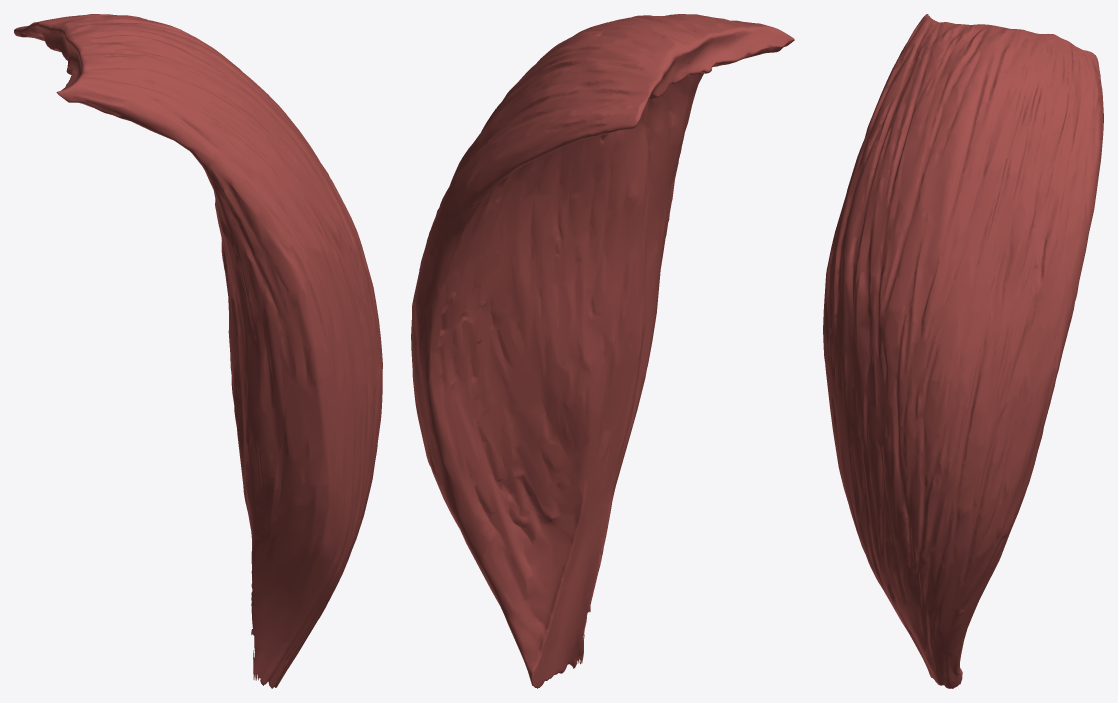
The model's file is FMA34683.glb.
3 views of the same model, side by side, from view 1: azimuth 30°, elevation 25°; view 2: azimuth 150°, elevation 25°; view 3: azimuth 270°, elevation 25° (orthographic). The views are drawn at different scales.
Visible parts, largest first — view 1: FMA34683; view 2: FMA34683; view 3: FMA34683.
Boxes of the visible parts, bbox=[...] form: FMA34683: bbox=[14, 14, 382, 688]; FMA34683: bbox=[411, 14, 794, 688]; FMA34683: bbox=[823, 14, 1103, 688].
Bounding box in the file's own units: 0.0728 × 0.1429 × 0.0615.
